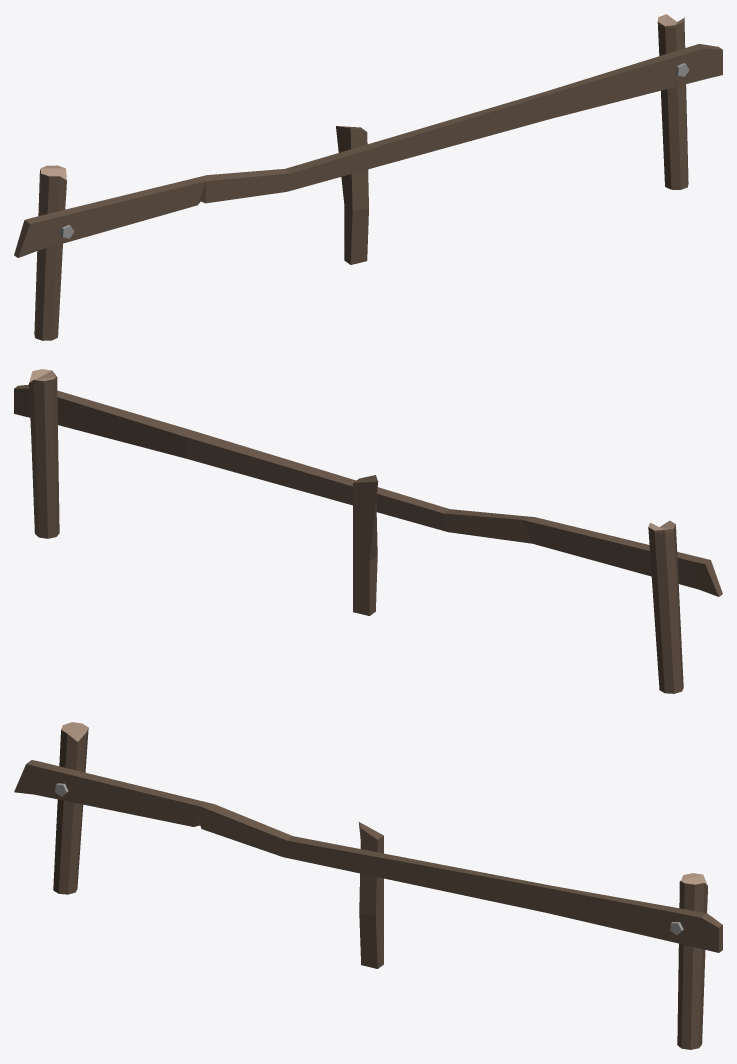
Rendered from Isl_1_Fence_2.fbx.
The picture shows the model from 3 angles, top to bottom: view 1: azimuth 30°, elevation 25°; view 2: azimuth 150°, elevation 25°; view 3: azimuth 330°, elevation 25°; orthographic projection.
Parts seen in each view (by area): view 1: Isl_1_Fence_2; view 2: Isl_1_Fence_2; view 3: Isl_1_Fence_2.
Part boxes in pixels (<box>): Isl_1_Fence_2: <box>14,14,722,340</box>; Isl_1_Fence_2: <box>14,369,722,693</box>; Isl_1_Fence_2: <box>14,722,722,1049</box>.
Size of the model in its own units: 575 by 31.51 by 127.
Materials: 1 (1 with a texture image).
